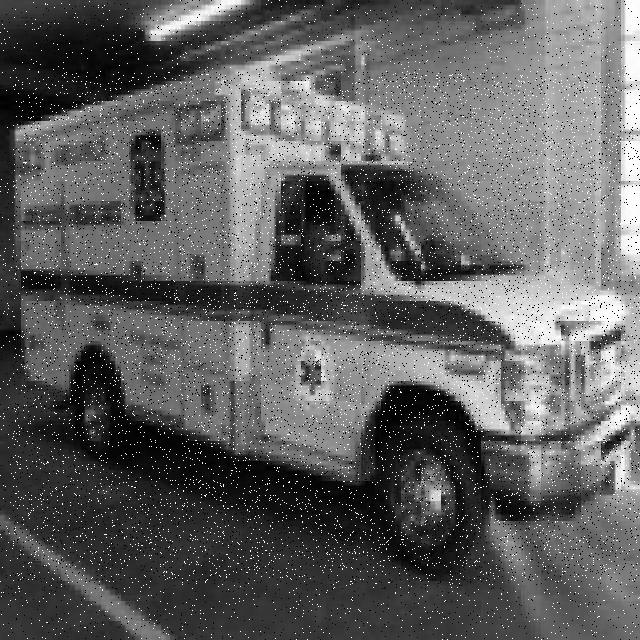Ambulance: (13, 72, 640, 583)
